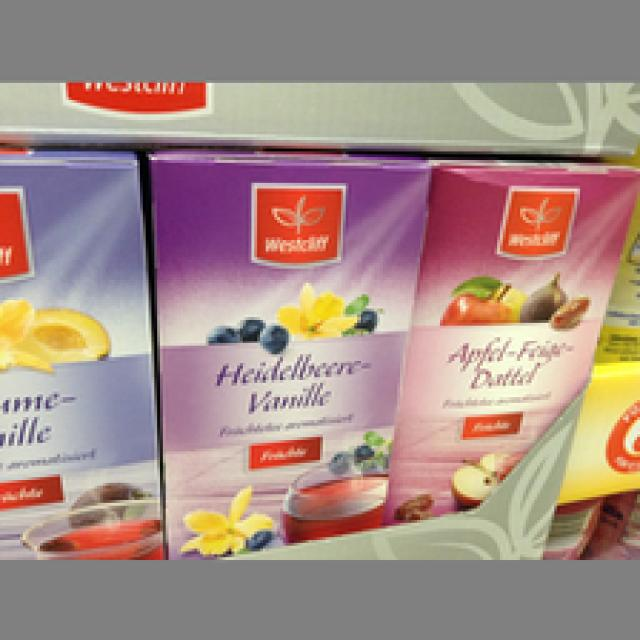groceries: (146, 149, 426, 557), (392, 160, 637, 520), (0, 146, 163, 551)
